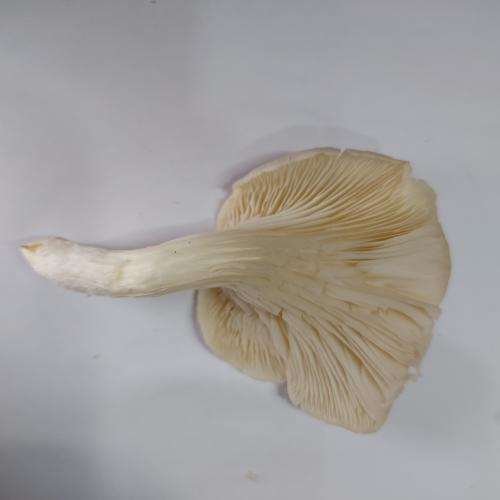Oyster Mushroom: (19, 146, 452, 434)
